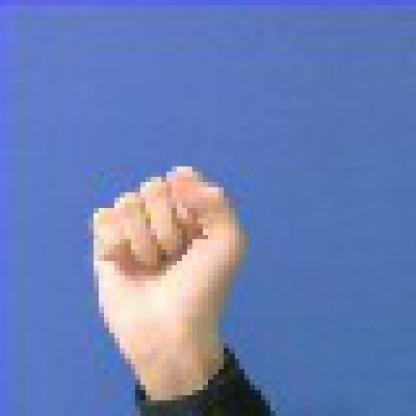zero: (36, 137, 319, 401)
